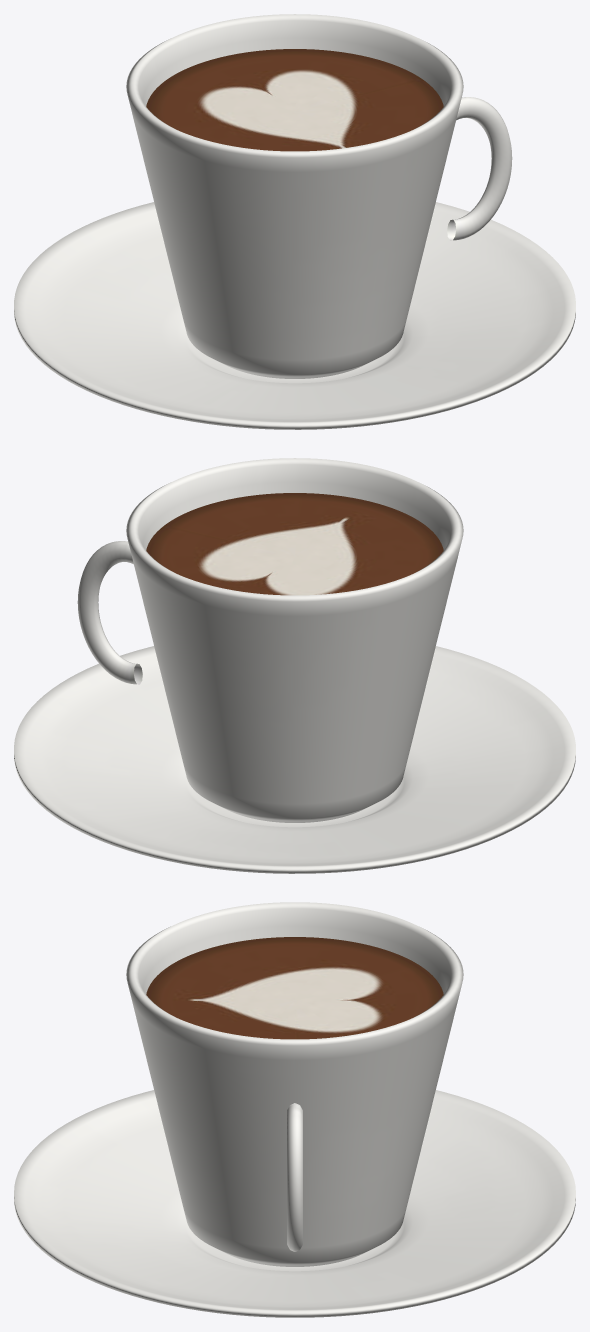
Rendered from mochaccino.glb.
The picture shows the model from 3 angles, top to bottom: view 1: azimuth 30°, elevation 25°; view 2: azimuth 150°, elevation 25°; view 3: azimuth 270°, elevation 25°; orthographic projection.
Visible parts, largest first — view 1: ceramic, satin; view 2: ceramic, satin; view 3: ceramic, satin.
Part boxes in pixels (left/top/right/bottom): ceramic: left=14, top=14, right=575, bottom=429; satin: left=146, top=49, right=443, bottom=151; ceramic: left=14, top=458, right=575, bottom=873; satin: left=146, top=493, right=443, bottom=595; ceramic: left=14, top=902, right=575, bottom=1317; satin: left=146, top=937, right=443, bottom=1039.
Size of the model in its own units: 0.16 by 0.0852 by 0.16.
2 materials, 2 textured.
